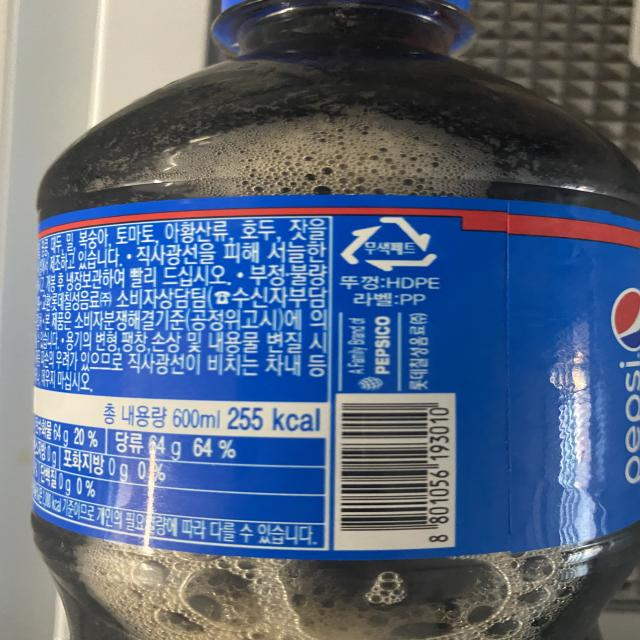ColorlessPET: (339, 215, 441, 276)
